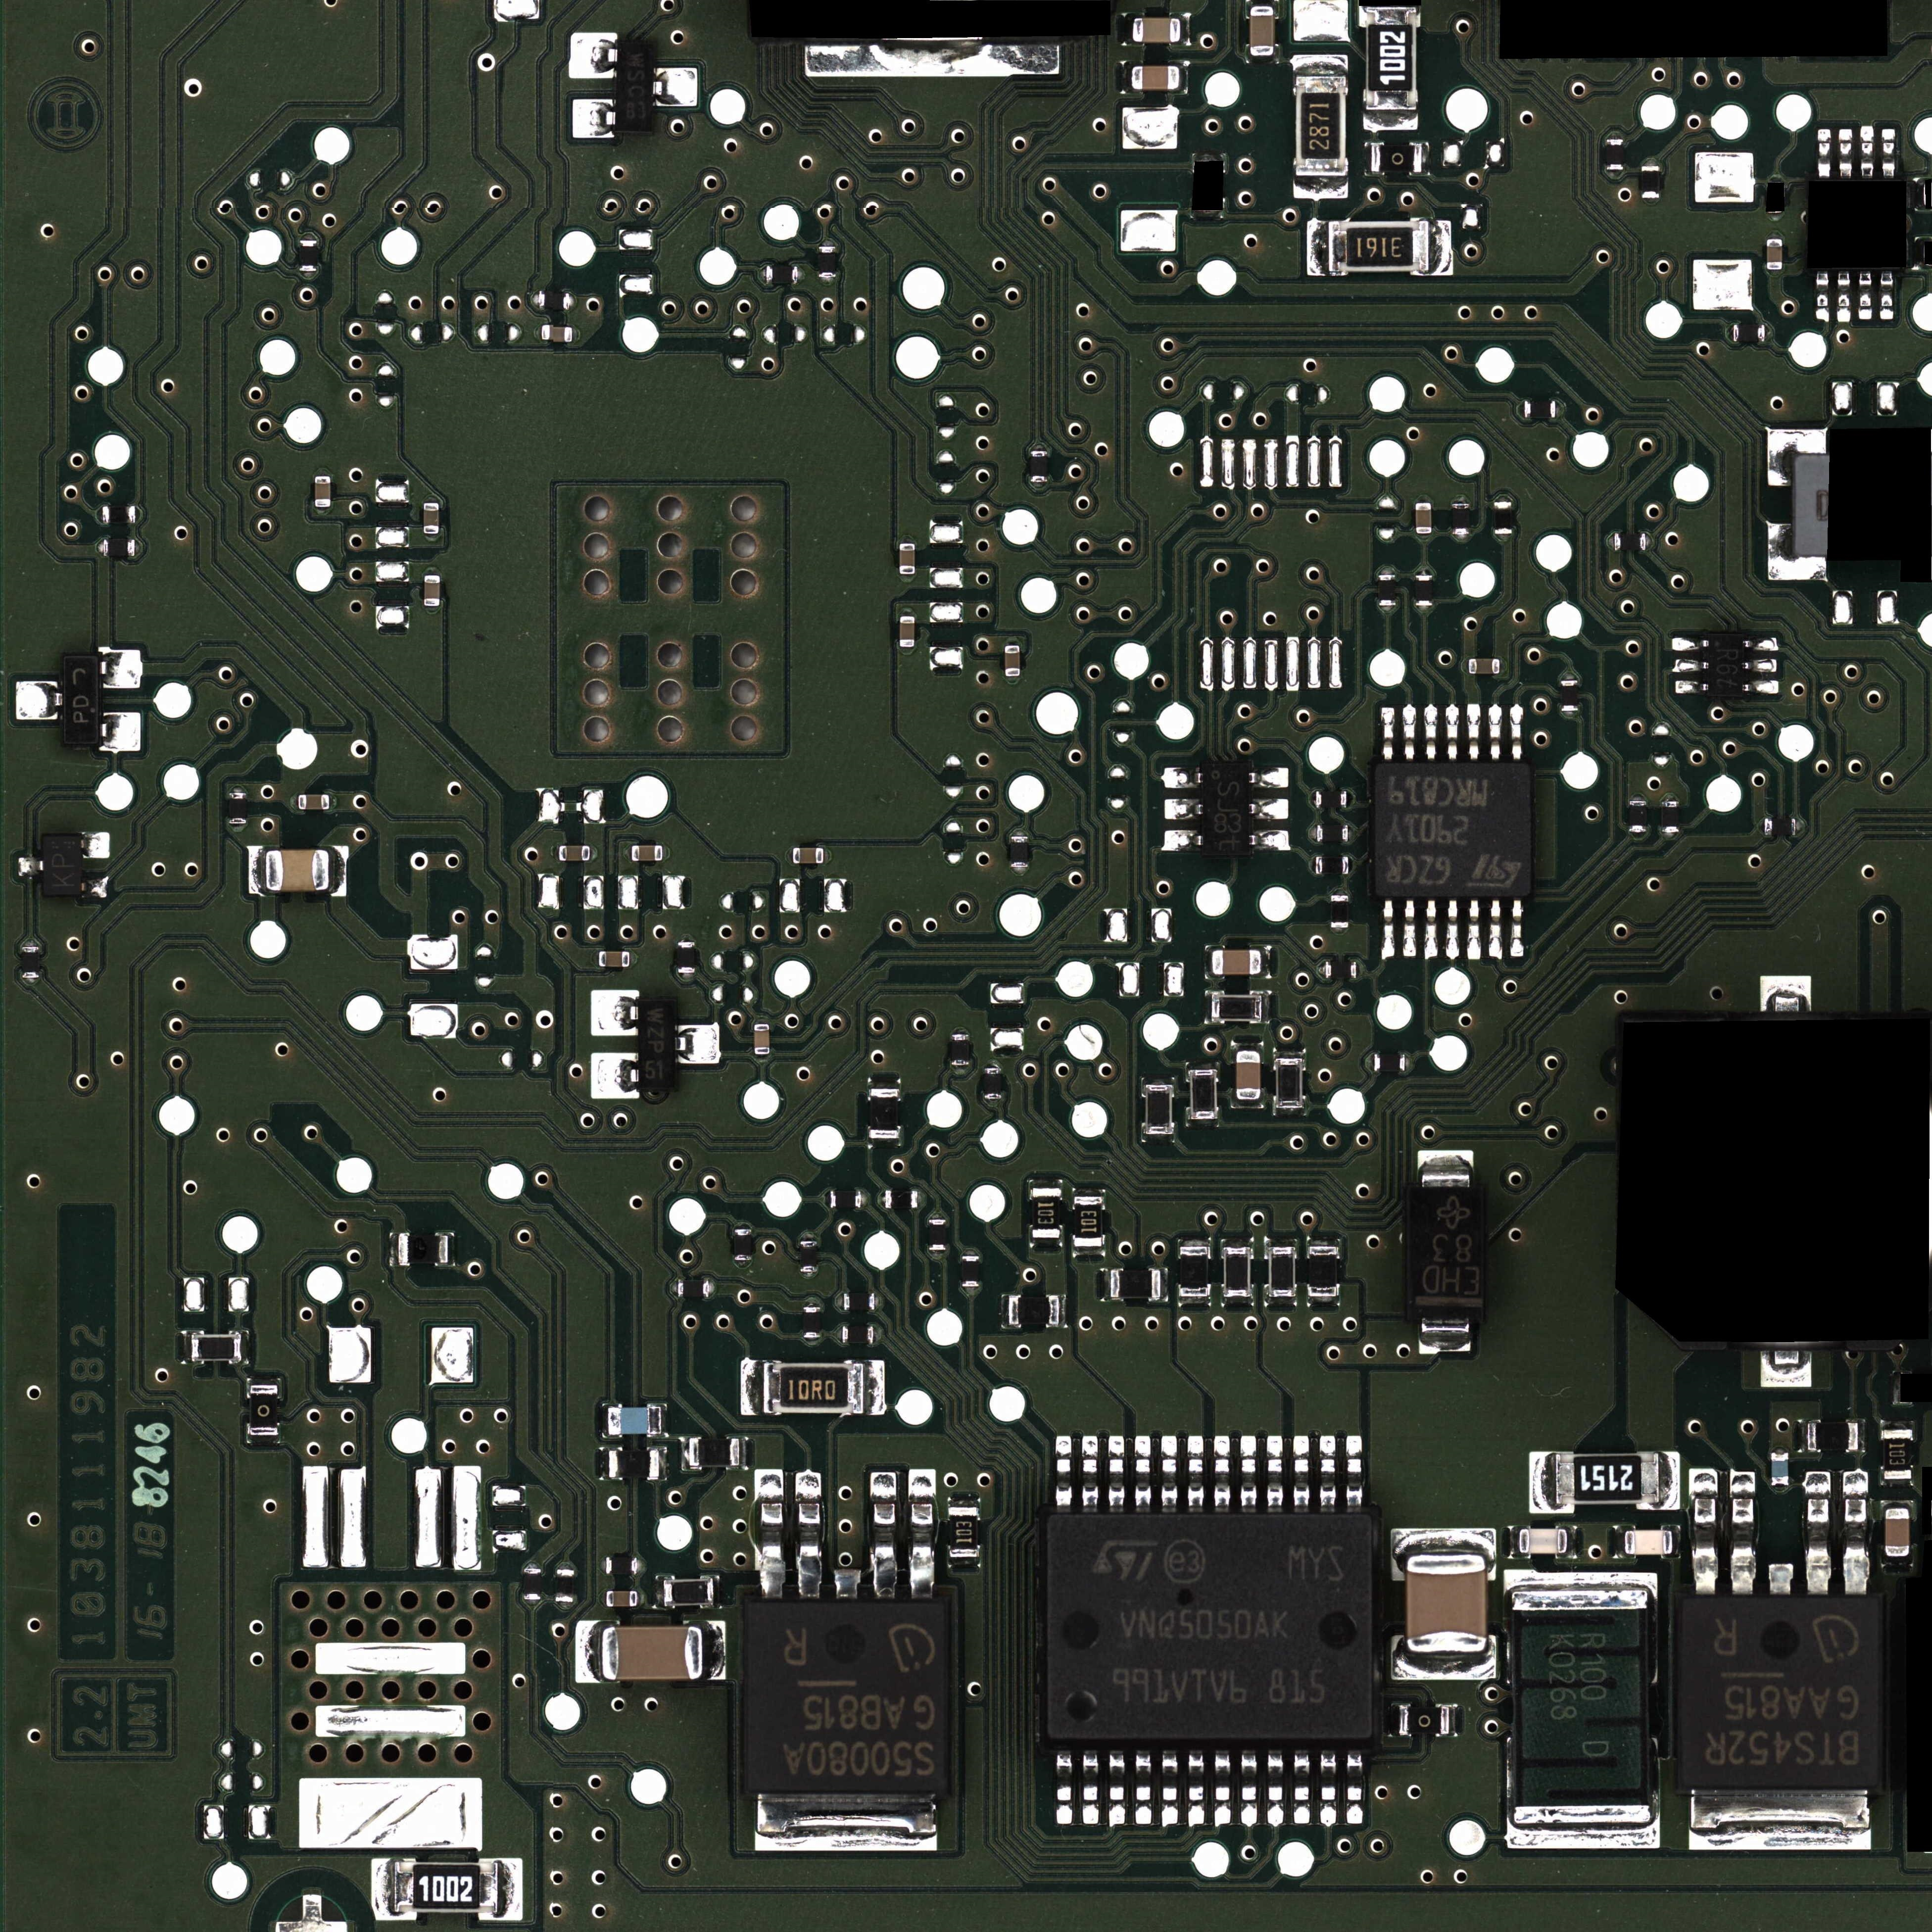Package: (1047, 1514, 1373, 1739), (745, 1601, 948, 1792), (1681, 1596, 1879, 1789), (1513, 1591, 1651, 1822), (1375, 761, 1530, 897), (1408, 1187, 1484, 1318), (1405, 1555, 1488, 1652), (1364, 7, 1419, 110), (1555, 1453, 1660, 1506), (395, 1861, 497, 1914), (602, 1626, 702, 1679), (1327, 221, 1430, 272), (764, 1362, 863, 1414), (1295, 76, 1346, 175), (1203, 763, 1249, 855), (616, 42, 653, 131), (639, 1000, 674, 1090), (64, 656, 99, 745), (265, 849, 329, 892), (42, 835, 81, 895), (1707, 635, 1743, 695), (607, 1407, 662, 1435), (1008, 1295, 1060, 1325), (1031, 1189, 1062, 1238), (1371, 145, 1422, 173), (1806, 1422, 1858, 1451), (1309, 1246, 1338, 1297), (690, 1438, 740, 1467), (398, 1235, 448, 1263), (950, 1507, 978, 1557), (249, 1385, 278, 1435), (609, 1451, 658, 1479), (1180, 1247, 1208, 1297), (1111, 1270, 1161, 1299), (1074, 1196, 1102, 1246), (1399, 1707, 1449, 1736), (191, 1334, 241, 1361), (1884, 1430, 1911, 1479), (1276, 1058, 1302, 1108), (870, 1090, 897, 1138), (663, 1580, 713, 1605), (1212, 950, 1261, 975), (1212, 996, 1261, 1021), (1224, 1247, 1249, 1297), (1191, 1070, 1215, 1120), (1146, 1085, 1171, 1134), (1270, 1247, 1295, 1297), (1132, 18, 1180, 42), (1131, 65, 1178, 90), (1884, 1509, 1909, 1557), (1624, 1530, 1672, 1555), (1520, 1529, 1568, 1553), (1237, 1051, 1260, 1100), (1251, 7, 1274, 57), (556, 1569, 575, 1601), (1493, 502, 1513, 534), (885, 1191, 918, 1208), (1771, 1453, 1789, 1486), (299, 241, 318, 271), (766, 265, 798, 283), (678, 941, 695, 973), (819, 246, 837, 278), (103, 540, 134, 557), (21, 947, 39, 978), (228, 793, 246, 824), (103, 506, 134, 524), (538, 292, 570, 310), (678, 1279, 709, 1297), (842, 1325, 874, 1343), (952, 1033, 970, 1065), (830, 1191, 862, 1208), (800, 1240, 817, 1272), (803, 1306, 821, 1338), (524, 1568, 541, 1599), (1316, 856, 1348, 874), (1325, 961, 1357, 978), (1560, 679, 1578, 711), (1316, 824, 1348, 842), (1642, 166, 1660, 198), (1629, 801, 1647, 833), (1330, 895, 1348, 927), (1661, 801, 1679, 833), (1010, 837, 1028, 867), (961, 1256, 978, 1286), (844, 1293, 874, 1311), (607, 1557, 637, 1575), (984, 1069, 1001, 1099), (734, 1230, 752, 1260), (929, 1219, 947, 1249), (1453, 504, 1470, 534), (1525, 400, 1555, 418), (1378, 575, 1396, 605), (1030, 451, 1047, 481), (1734, 324, 1764, 341), (1606, 140, 1624, 170), (1375, 1054, 1405, 1072), (423, 502, 439, 534), (899, 616, 915, 648), (315, 476, 331, 508), (793, 847, 824, 863), (1415, 502, 1431, 534), (1468, 658, 1500, 674), (1614, 534, 1645, 550), (899, 543, 915, 573), (425, 575, 441, 605), (559, 846, 589, 862), (299, 794, 329, 810), (632, 846, 662, 862), (600, 952, 630, 968), (754, 1024, 770, 1054), (607, 1591, 637, 1606), (1415, 575, 1431, 605), (1766, 819, 1796, 835), (1316, 791, 1346, 807), (1005, 646, 1019, 676), (1767, 239, 1782, 269)
Solder: (754, 1792, 938, 1854), (1690, 1789, 1870, 1851), (803, 44, 1060, 76), (1766, 520, 1829, 582), (1766, 426, 1828, 488), (1507, 1824, 1660, 1849), (757, 1468, 786, 1599), (908, 1470, 936, 1599), (794, 1470, 823, 1599), (1690, 1468, 1718, 1596), (1729, 1470, 1757, 1594), (870, 1472, 897, 1599), (1842, 1470, 1868, 1596), (1805, 1470, 1831, 1596), (1504, 1571, 1658, 1591), (1392, 1652, 1497, 1681), (1391, 1529, 1497, 1555), (591, 1053, 640, 1099), (591, 991, 639, 1037), (570, 34, 617, 78), (1417, 1150, 1474, 1187), (1759, 1350, 1812, 1387), (1759, 975, 1812, 1012), (1419, 1318, 1470, 1355), (16, 681, 62, 720), (676, 1024, 720, 1063), (573, 99, 616, 138), (655, 67, 697, 106), (101, 649, 142, 688), (1530, 1453, 1555, 1514), (499, 1858, 522, 1921), (101, 713, 140, 750), (372, 1859, 395, 1921), (577, 1621, 600, 1683), (1345, 1435, 1362, 1513), (1161, 1750, 1178, 1828), (1240, 1750, 1258, 1828), (1134, 1750, 1152, 1826), (1134, 1435, 1152, 1511), (1214, 1435, 1231, 1511), (1081, 1435, 1099, 1511), (1161, 1435, 1178, 1511), (1214, 1750, 1231, 1826), (1054, 1435, 1072, 1511), (1320, 1750, 1338, 1826), (1267, 1750, 1284, 1826), (1108, 1750, 1125, 1826), (1187, 1750, 1205, 1826), (1267, 1435, 1284, 1511), (1108, 1435, 1125, 1511), (1187, 1435, 1205, 1511), (1293, 1750, 1311, 1824), (1346, 1750, 1364, 1824), (1430, 219, 1453, 276), (704, 1621, 725, 1681), (1293, 177, 1348, 200), (1320, 1435, 1336, 1513), (1293, 1435, 1309, 1511), (1240, 1435, 1256, 1511), (1083, 1750, 1099, 1826), (741, 1359, 763, 1415), (1292, 55, 1348, 76), (1056, 1750, 1072, 1824), (1660, 1451, 1679, 1509), (1307, 219, 1327, 276), (865, 1361, 885, 1415), (1364, 111, 1419, 129), (1858, 124, 1875, 179), (1835, 271, 1852, 324), (329, 846, 347, 897), (1815, 127, 1833, 179), (1813, 271, 1831, 322), (1856, 271, 1874, 322), (1249, 830, 1290, 851), (833, 1569, 862, 1599), (1162, 768, 1201, 789), (1382, 901, 1396, 959), (1249, 798, 1288, 819), (1164, 830, 1203, 851), (1424, 901, 1438, 959), (1445, 702, 1460, 761), (1445, 901, 1460, 959), (1488, 901, 1502, 959), (1467, 901, 1481, 959), (1836, 127, 1852, 179), (1881, 127, 1897, 179), (1879, 271, 1895, 322), (1403, 901, 1417, 957), (1488, 702, 1502, 759), (1467, 702, 1481, 759), (1767, 1564, 1794, 1594), (249, 846, 265, 895), (1164, 798, 1201, 819), (1424, 704, 1438, 759), (1249, 768, 1288, 787), (81, 832, 110, 858), (1511, 702, 1523, 761), (1511, 899, 1523, 957), (1382, 706, 1394, 761), (1403, 704, 1415, 759), (1672, 637, 1707, 651), (18, 856, 42, 876), (81, 878, 106, 897), (1744, 637, 1778, 651), (1744, 658, 1776, 672), (1674, 660, 1707, 672), (1744, 681, 1778, 694), (1675, 681, 1707, 694), (947, 1557, 982, 1568), (867, 1077, 901, 1088), (1122, 12, 1132, 46), (1221, 1237, 1254, 1247), (1449, 1704, 1460, 1737), (1389, 1704, 1399, 1737), (1881, 1419, 1914, 1430), (1881, 1557, 1914, 1568), (1568, 1525, 1578, 1559), (598, 1447, 609, 1479), (1120, 62, 1131, 94), (1180, 14, 1191, 46), (1201, 991, 1212, 1023), (246, 1435, 281, 1444), (449, 1231, 458, 1267), (389, 1233, 398, 1267), (679, 1437, 688, 1470), (740, 1437, 748, 1470), (1422, 142, 1431, 175), (1307, 1237, 1341, 1246), (1072, 1187, 1106, 1196), (1072, 1247, 1106, 1256), (1030, 1178, 1063, 1187), (1798, 1419, 1806, 1453), (1858, 1419, 1867, 1453), (1615, 1525, 1624, 1559), (248, 1376, 280, 1385), (182, 1332, 191, 1364), (948, 1499, 980, 1507), (713, 1576, 722, 1608), (655, 1576, 663, 1608), (1180, 62, 1189, 94), (1261, 947, 1270, 978), (1203, 947, 1212, 978), (1274, 1049, 1306, 1058), (1178, 1237, 1210, 1246), (1231, 1042, 1263, 1051), (1307, 1297, 1339, 1306), (1143, 1076, 1175, 1085), (1261, 991, 1270, 1023), (1265, 1237, 1297, 1246), (1223, 1297, 1254, 1306), (1265, 1297, 1297, 1306), (1030, 1238, 1062, 1247), (1178, 1297, 1210, 1306), (1274, 1108, 1306, 1116), (1187, 1120, 1219, 1129), (1509, 1527, 1518, 1559), (1674, 1525, 1683, 1557), (1914, 237, 1923, 269), (602, 1403, 609, 1438), (1001, 1293, 1008, 1329), (1246, 57, 1281, 64), (1246, 0, 1281, 7), (1893, 1371, 1900, 1407), (242, 1330, 249, 1364), (660, 1447, 667, 1481), (662, 1403, 669, 1437), (1364, 142, 1371, 175), (1161, 1269, 1168, 1302), (1185, 1062, 1219, 1069), (1060, 1295, 1067, 1329), (1102, 1269, 1109, 1302), (1141, 1136, 1175, 1143), (1192, 154, 1226, 161), (1191, 211, 1224, 218), (869, 1139, 901, 1146), (1231, 1100, 1263, 1108), (1881, 1500, 1913, 1507), (1881, 1479, 1913, 1486), (637, 1553, 646, 1578), (596, 1553, 605, 1576), (678, 973, 695, 982), (952, 1065, 970, 1074), (1330, 886, 1348, 895), (1010, 867, 1028, 876), (1766, 230, 1783, 239), (554, 1601, 575, 1608), (1918, 182, 1923, 209), (961, 1288, 980, 1295), (522, 1599, 541, 1606), (556, 1562, 575, 1569), (1366, 1053, 1373, 1072), (1516, 400, 1523, 419), (1727, 324, 1734, 343), (1766, 324, 1773, 343), (1493, 495, 1513, 502), (1606, 533, 1614, 552), (1560, 711, 1580, 718), (299, 271, 317, 278), (96, 506, 103, 524), (21, 978, 39, 985), (759, 265, 766, 283), (678, 934, 695, 941), (823, 1191, 830, 1208), (929, 1251, 947, 1258), (800, 1233, 817, 1240), (962, 1249, 980, 1256), (734, 1223, 752, 1230), (918, 1191, 925, 1208), (929, 1212, 947, 1219), (734, 1260, 752, 1267), (803, 1299, 821, 1306), (878, 1191, 885, 1208), (800, 1272, 817, 1279), (803, 1339, 821, 1346), (862, 1191, 869, 1208), (837, 1293, 844, 1311), (524, 1562, 541, 1569), (1030, 442, 1047, 449), (1453, 495, 1470, 502), (1350, 856, 1357, 874), (1309, 824, 1316, 842), (1307, 856, 1315, 874), (1348, 824, 1355, 842), (1415, 605, 1433, 612), (1010, 828, 1028, 835), (1330, 927, 1348, 934), (1348, 791, 1355, 809), (1307, 791, 1315, 809), (1415, 568, 1433, 575), (1357, 961, 1364, 978), (1318, 961, 1325, 978), (1453, 534, 1470, 541), (984, 1099, 1001, 1106), (1642, 198, 1660, 205), (1606, 170, 1624, 177), (1647, 533, 1654, 550), (1661, 794, 1679, 801), (1495, 534, 1513, 541), (1661, 833, 1679, 840), (1771, 1445, 1789, 1453), (1771, 1486, 1789, 1493), (315, 469, 331, 476), (301, 234, 317, 241), (423, 495, 439, 502), (230, 786, 246, 793), (230, 823, 246, 830), (329, 794, 336, 810), (23, 939, 39, 947), (96, 540, 103, 556), (798, 267, 805, 283), (819, 239, 835, 246), (819, 278, 835, 285), (824, 847, 832, 863), (591, 952, 598, 968), (899, 536, 915, 543), (899, 575, 915, 582), (630, 950, 637, 966), (625, 846, 632, 862), (899, 648, 915, 655), (589, 846, 596, 862), (552, 846, 559, 862), (952, 1028, 968, 1035), (874, 1327, 881, 1343), (876, 1293, 883, 1309), (671, 1281, 678, 1297), (754, 1017, 770, 1024), (835, 1327, 842, 1343), (1031, 483, 1047, 490), (1415, 495, 1431, 502), (1005, 678, 1021, 685), (1005, 637, 1021, 644), (1415, 534, 1431, 541), (1405, 1054, 1412, 1070), (1759, 819, 1766, 835), (1796, 819, 1803, 835), (1461, 658, 1468, 674), (1769, 175, 1785, 182), (1767, 212, 1783, 219), (1557, 400, 1562, 419), (425, 568, 439, 575), (901, 609, 915, 616), (786, 849, 793, 863), (637, 1591, 642, 1608), (1378, 607, 1396, 612), (1378, 568, 1396, 573), (984, 1062, 1001, 1067), (1642, 159, 1660, 165), (1606, 133, 1624, 138), (1629, 833, 1647, 839), (134, 540, 140, 557), (315, 508, 331, 513), (292, 794, 297, 810), (570, 294, 575, 310), (602, 1591, 607, 1606), (1767, 271, 1783, 276), (1629, 794, 1645, 800), (709, 1281, 715, 1297), (1500, 658, 1506, 674), (425, 607, 439, 612), (425, 534, 439, 540), (533, 292, 538, 306), (663, 846, 669, 860), (1562, 674, 1576, 679), (754, 1054, 770, 1058), (136, 506, 140, 522)
